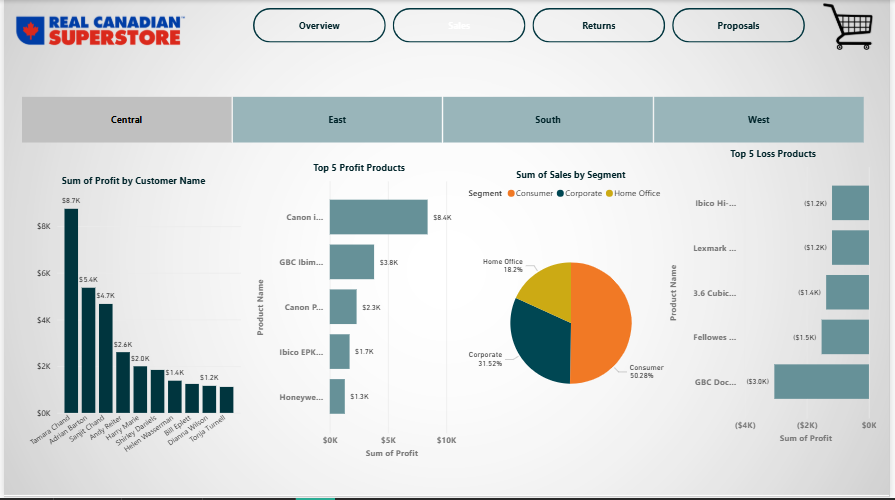

What the dashboard file says about the page in this screenshot:
{"tool":"powerbi","page":{"name":"Sales","canvas":[1280,720],"ordinal":1},"visuals":[{"type":"columnChart","fields":{"Category":["Orders.Customer Name"],"Y":["Sum(Orders.Profit)"]},"box":[27.5,251.6,319.5,416.4],"z":0},{"type":"barChart","title":"Top 5 Profit Products","fields":{"Category":["Orders.Product Name"],"Y":["Sum(Orders.Profit)"]},"box":[360,232.8,306.5,435.2],"z":3000},{"type":"barChart","title":"Top 5 Loss Products","fields":{"Category":["Orders.Product Name"],"Y":["Sum(Orders.Profit)"]},"box":[957.1,212.5,309.4,433.7],"z":4000},{"type":"slicer","fields":{"Values":["Orders.Region"]},"box":[0,133,1266.5,79.5],"z":5000},{"type":"pieChart","fields":{"Category":["Orders.Segment"],"Y":["Sum(Orders.Sales)"]},"box":[666.5,242.9,306.5,403.4],"z":6000},{"type":"pageNavigator","box":[360,11.6,799.5,50.6],"z":7000},{"type":"image","box":[11.6,11.6,255.9,65.1],"z":8000},{"type":"image","box":[1159.5,0,120,76.6],"z":9000}]}

Visuals, with their boxes in screenshot pixels (x1, y1, x2, y2), scaled from the page's 1280x720 canvas onto the 895x500 screenshot:
columnChart - Orders.Customer Name x Sum(Orders.Profit): (19,175,243,464)
"Top 5 Profit Products" barChart: (252,162,466,464)
"Top 5 Loss Products" barChart: (669,148,886,449)
slicer - Orders.Region: (0,92,886,148)
pieChart - Orders.Segment x Sum(Orders.Sales): (466,169,680,449)
pageNavigator: (252,8,811,43)
image: (8,8,187,53)
image: (811,0,894,53)
